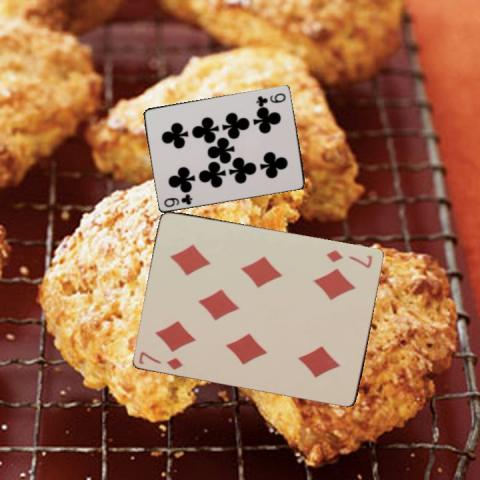7d: (136, 348, 185, 371), (324, 247, 374, 269)
9c: (161, 191, 194, 208), (254, 90, 288, 106)
